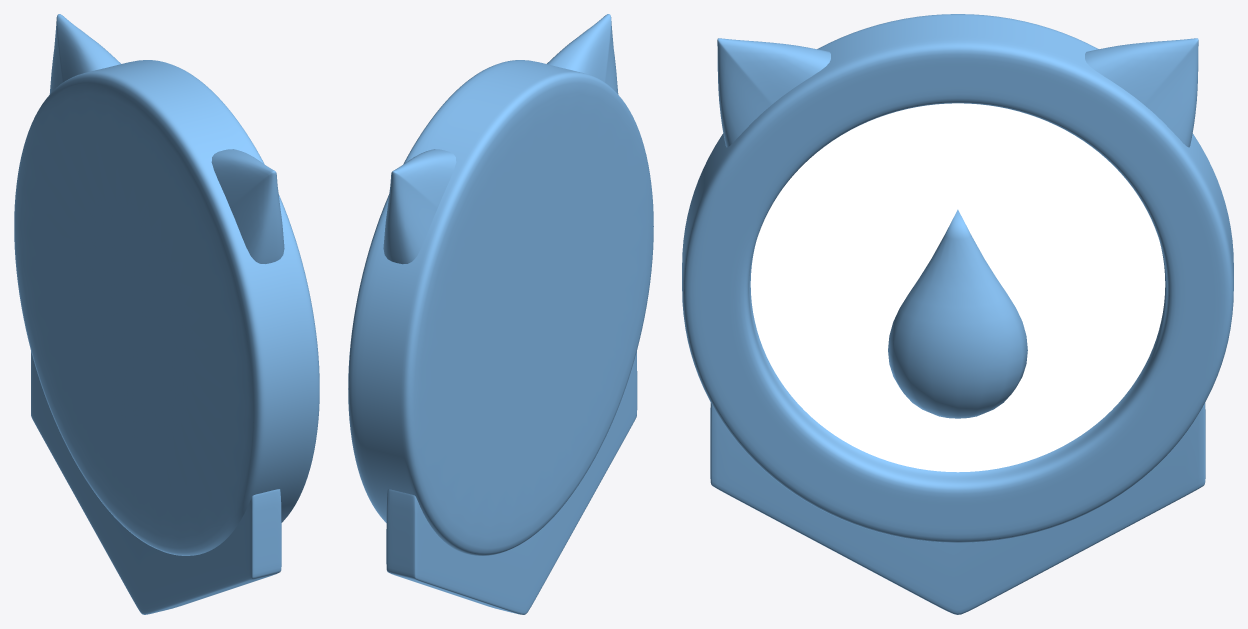
The model's file is waterbender_3.glb.
3 views of the same model, side by side, from view 1: azimuth 30°, elevation 25°; view 2: azimuth 150°, elevation 25°; view 3: azimuth 270°, elevation 25° (orthographic). The views are drawn at different scales.
Visible parts, largest first — view 1: rarity1; view 2: rarity1; view 3: rarity1.
Part boxes in pixels (bbox=[...]): rarity1: bbox=[14, 14, 319, 614]; rarity1: bbox=[348, 14, 653, 614]; rarity1: bbox=[682, 14, 1233, 614].
Size of the model in its own units: 0.3593 by 1.17 by 0.9999.
